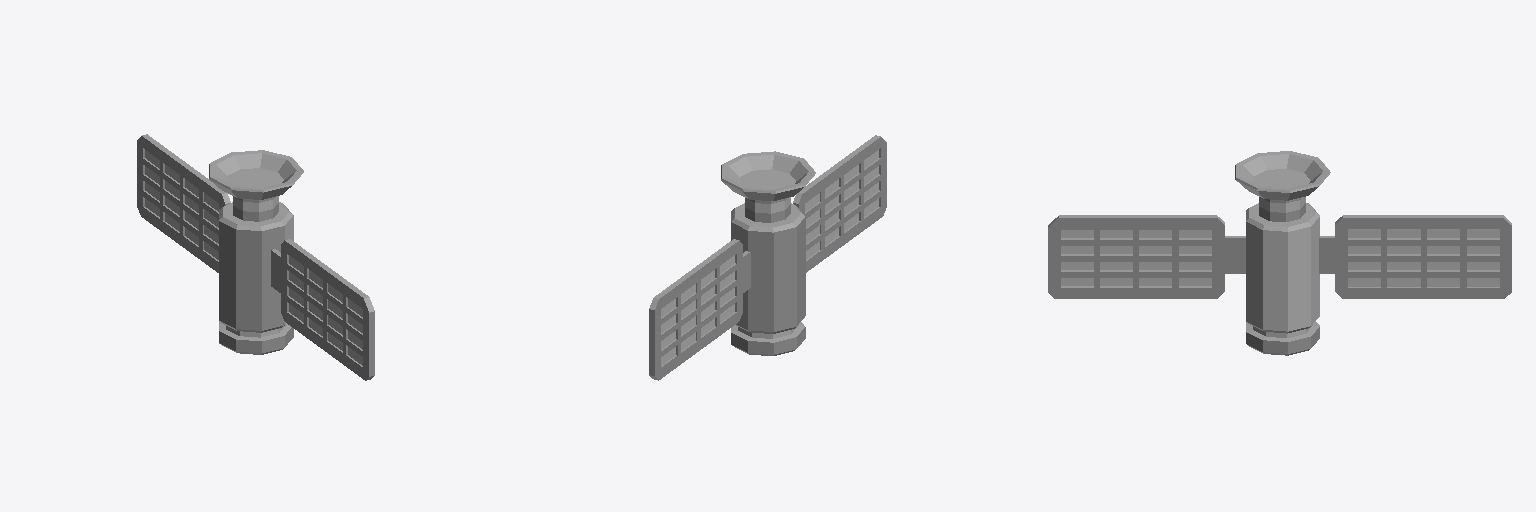
File: pleasedontsatellite.obj
3 renders of one model, left to right at view 1: azimuth 30°, elevation 25°; view 2: azimuth 150°, elevation 25°; view 3: azimuth 270°, elevation 25°, orthographic.
Visible parts, largest first — view 1: Cylinder; view 2: Cylinder; view 3: Cylinder.
Part boxes in pixels (bbox=[...]): Cylinder: bbox=[137, 134, 374, 380]; Cylinder: bbox=[649, 135, 886, 380]; Cylinder: bbox=[1048, 151, 1511, 355].
Bounding box in the file's own units: 2.53 × 4.89 × 12.08.